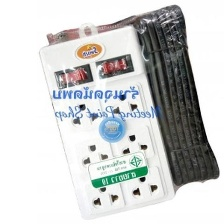three_eye_plug: (36, 18, 182, 224)
